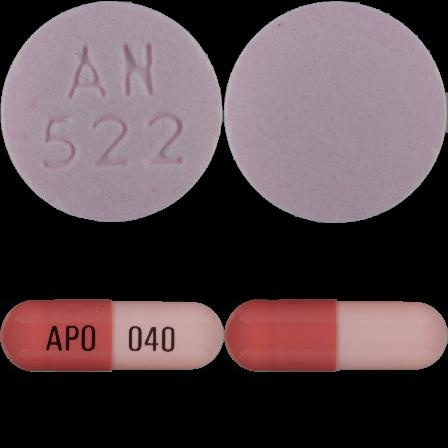43063-447: (0, 0, 224, 224)
